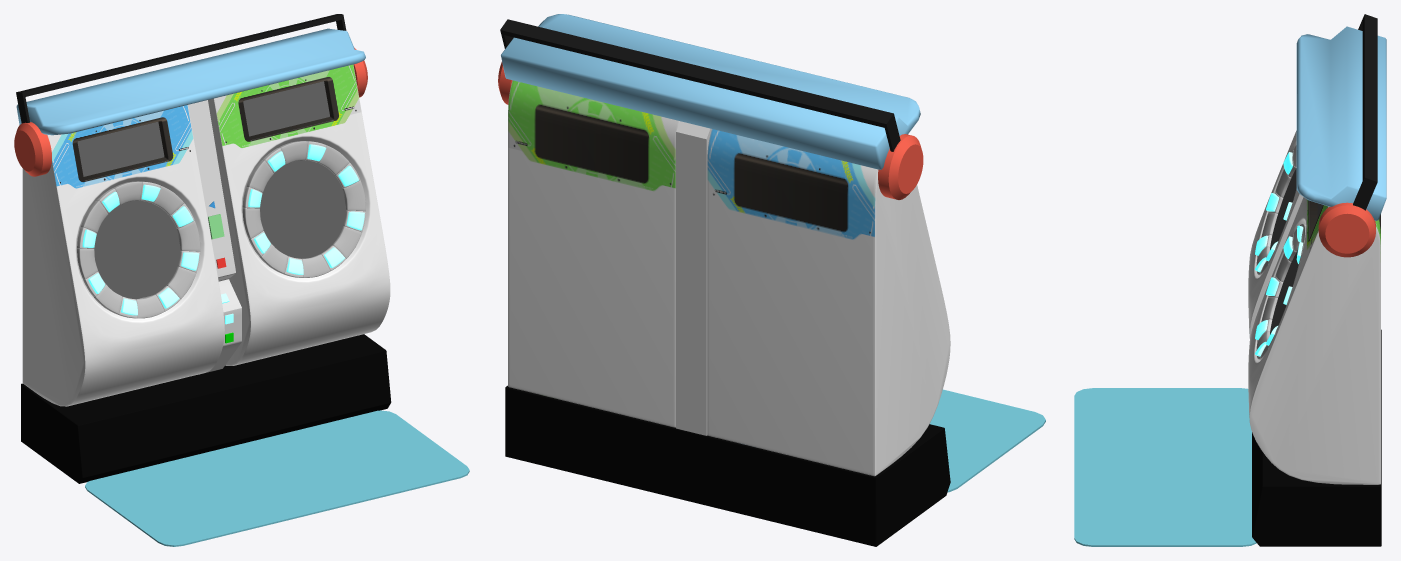
File: DXCab2023.glb
3 renders of one model, left to right at view 1: azimuth 30°, elevation 25°; view 2: azimuth 150°, elevation 25°; view 3: azimuth 270°, elevation 25°, orthographic. The views are drawn at different scales.
Parts seen in each view (by area): view 1: Body P1, Base, GroundPlate, Body P2, Cap, Display P2, Display P1, Side Box Front, Ring P1, Ring P2, HF top, HF (+2 smaller); view 2: Body P1, Body P2, Base, Cap, Side Box Side, HF top, GroundPlate, HF; view 3: GroundPlate, Body P2, Cap, Base, HF top, HF, Body P1, Ring P2, Ring P1, Display P2, Display P1, Buttons Base P2.
Boxes of the visible parts, left/top/right/bottom form: Body P1: left=22, top=105, right=224, bottom=406; Base: left=21, top=334, right=391, bottom=483; GroundPlate: left=85, top=410, right=469, bottom=546; Body P2: left=208, top=64, right=390, bottom=365; Cap: left=16, top=28, right=365, bottom=135; Display P2: left=243, top=81, right=346, bottom=258; Display P1: left=77, top=122, right=180, bottom=299; Side Box Front: left=188, top=100, right=241, bottom=374; Ring P1: left=77, top=181, right=200, bottom=318; Ring P2: left=242, top=141, right=365, bottom=277; HF top: left=16, top=14, right=346, bottom=123; HF: left=14, top=47, right=367, bottom=176; Body P1: left=707, top=129, right=950, bottom=476; Body P2: left=508, top=80, right=679, bottom=427; Base: left=505, top=385, right=950, bottom=546; Cap: left=501, top=14, right=920, bottom=169; Side Box Side: left=676, top=121, right=711, bottom=435; HF top: left=500, top=19, right=900, bottom=151; GroundPlate: left=930, top=389, right=1045, bottom=492; HF: left=498, top=62, right=923, bottom=199; GroundPlate: left=1074, top=388, right=1256, bottom=546; Body P2: left=1248, top=197, right=1380, bottom=484; Cap: left=1296, top=26, right=1386, bottom=220; Base: left=1252, top=329, right=1381, bottom=546; HF top: left=1353, top=14, right=1377, bottom=210; HF: left=1318, top=202, right=1375, bottom=257; Body P1: left=1248, top=130, right=1303, bottom=338; Ring P2: left=1256, top=224, right=1306, bottom=359; Ring P1: left=1256, top=145, right=1296, bottom=274; Display P2: left=1270, top=203, right=1322, bottom=334; Display P1: left=1270, top=168, right=1296, bottom=249; Buttons Base P2: left=1257, top=223, right=1306, bottom=360.
Size of what is drawn, in the model's own units: 2.07 by 2.12 by 1.61.
Materials: 17 (2 with a texture image).
